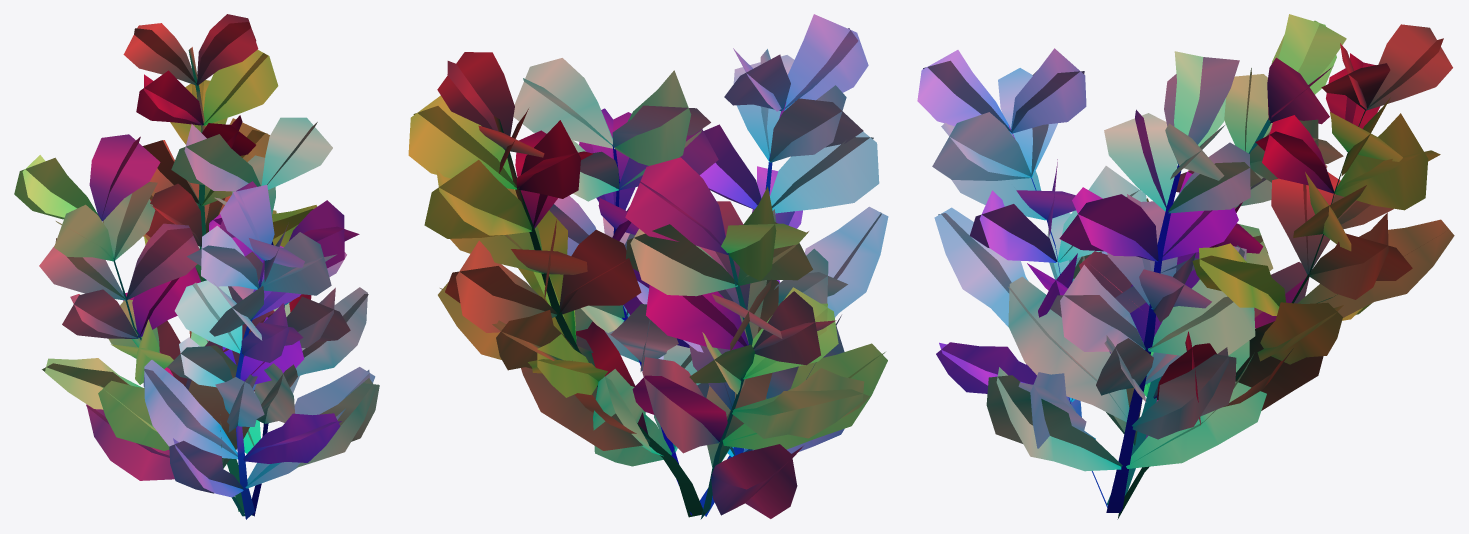
File: European_Spindle_wk1ncbxja_Mid_wk1ncbxja_VarI_LOD2.fbx
The picture shows the model from 3 angles, left to right: view 1: azimuth 30°, elevation 25°; view 2: azimuth 150°, elevation 25°; view 3: azimuth 270°, elevation 25°; orthographic projection. The views are drawn at different scales.
Parts seen in each view (by area): view 1: _msyq_VarI_LOD3; view 2: _msyq_VarI_LOD3; view 3: _msyq_VarI_LOD3.
Boxes of the visible parts, bbox=[...] form: _msyq_VarI_LOD3: bbox=[14, 14, 379, 519]; _msyq_VarI_LOD3: bbox=[408, 14, 888, 519]; _msyq_VarI_LOD3: bbox=[917, 14, 1454, 519].
Size of the model in its own units: 82.24 by 111 by 105.
